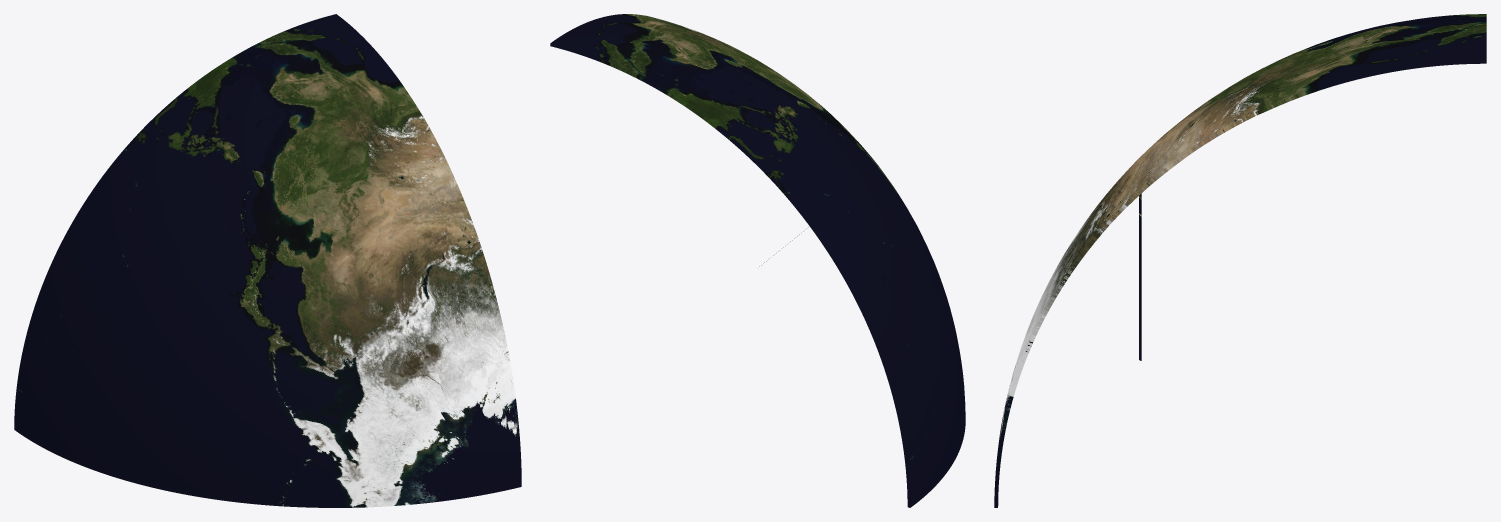
3 views of the same model, side by side, from view 1: azimuth 30°, elevation 25°; view 2: azimuth 150°, elevation 25°; view 3: azimuth 270°, elevation 25° (orthographic). The views are drawn at different scales.
Visible parts, largest first — view 1: DefaultName.006, DefaultName.003, DefaultName.009, DefaultName.012; view 2: DefaultName.006, DefaultName.003; view 3: DefaultName.003, DefaultName.012.
Boxes of the visible parts, x1,y1,x2,y2 form: DefaultName.006: (14, 168, 305, 502); DefaultName.003: (108, 14, 466, 316); DefaultName.009: (239, 318, 521, 507); DefaultName.012: (306, 208, 521, 486); DefaultName.006: (803, 165, 965, 507); DefaultName.003: (550, 14, 877, 216); DefaultName.003: (1139, 14, 1486, 192); DefaultName.012: (994, 158, 1141, 507).
Size of the model in its own units: 63781 by 63781 by 63568.
4 materials, 4 textured.
